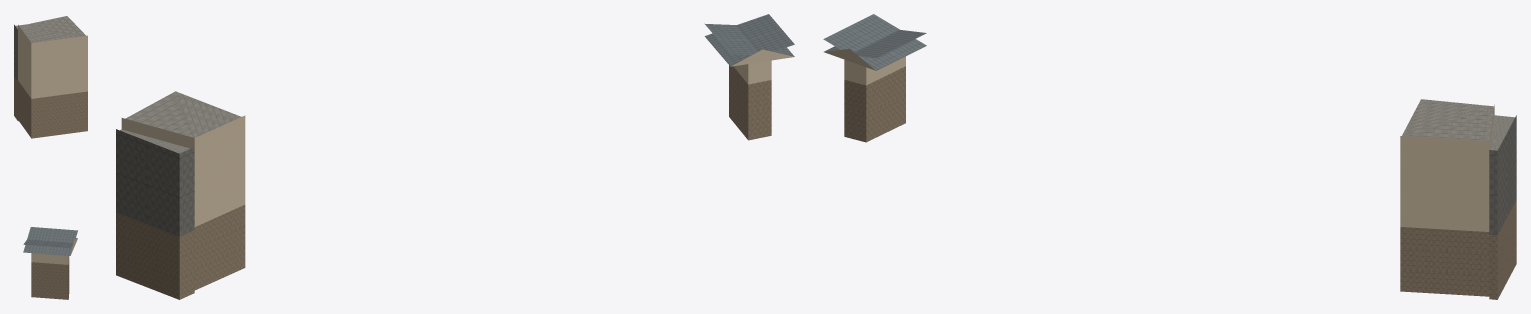
Rendered from bld_c3_17_461.gltf.
3 renders of one model, left to right at view 1: azimuth 30°, elevation 25°; view 2: azimuth 150°, elevation 25°; view 3: azimuth 270°, elevation 25°, orthographic. The views are drawn at different scales.
Visible parts, largest first — view 1: bld_c3_17_461; view 2: bld_c3_17_461; view 3: bld_c3_17_461.
Boxes of the visible parts, x1,y1,x2,y2 form: bld_c3_17_461: (14, 16, 87, 299); bld_c3_17_461: (116, 14, 794, 299); bld_c3_17_461: (823, 14, 1516, 299).
Size of the model in its own units: 31.46 by 12.48 by 49.6.
Materials: 7 (7 with a texture image).
